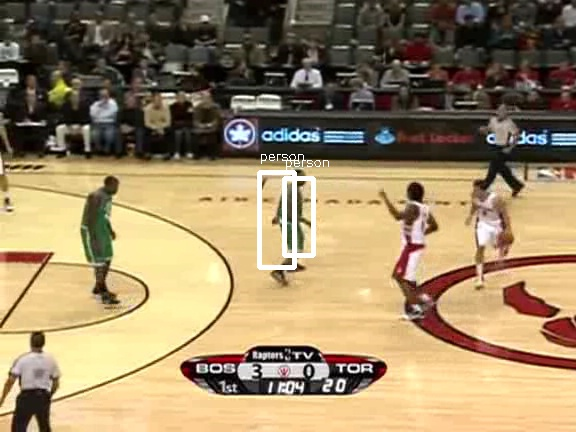person: (273, 180, 307, 261), (272, 180, 306, 261), (274, 180, 308, 261), (273, 179, 307, 260), (273, 181, 307, 262)
target_negative: (223, 86, 392, 255), (297, 149, 376, 322), (400, 341, 538, 424), (479, 362, 537, 373), (568, 288, 574, 370), (466, 418, 520, 421)
